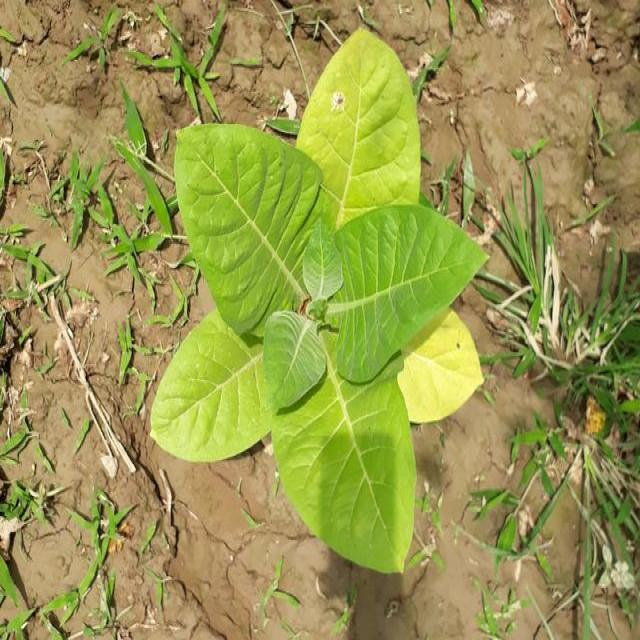crop: (148, 31, 483, 569)
